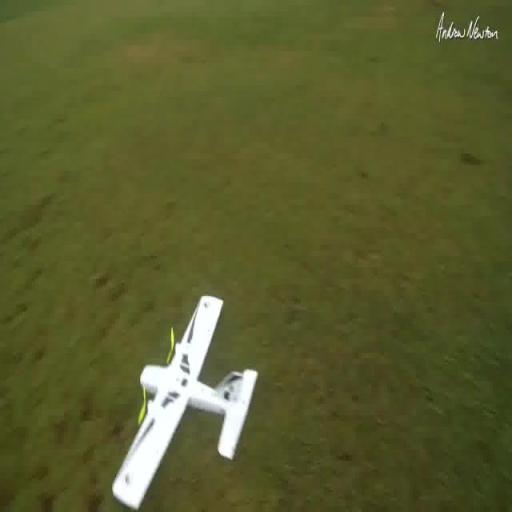uav: (40, 271, 286, 512)
